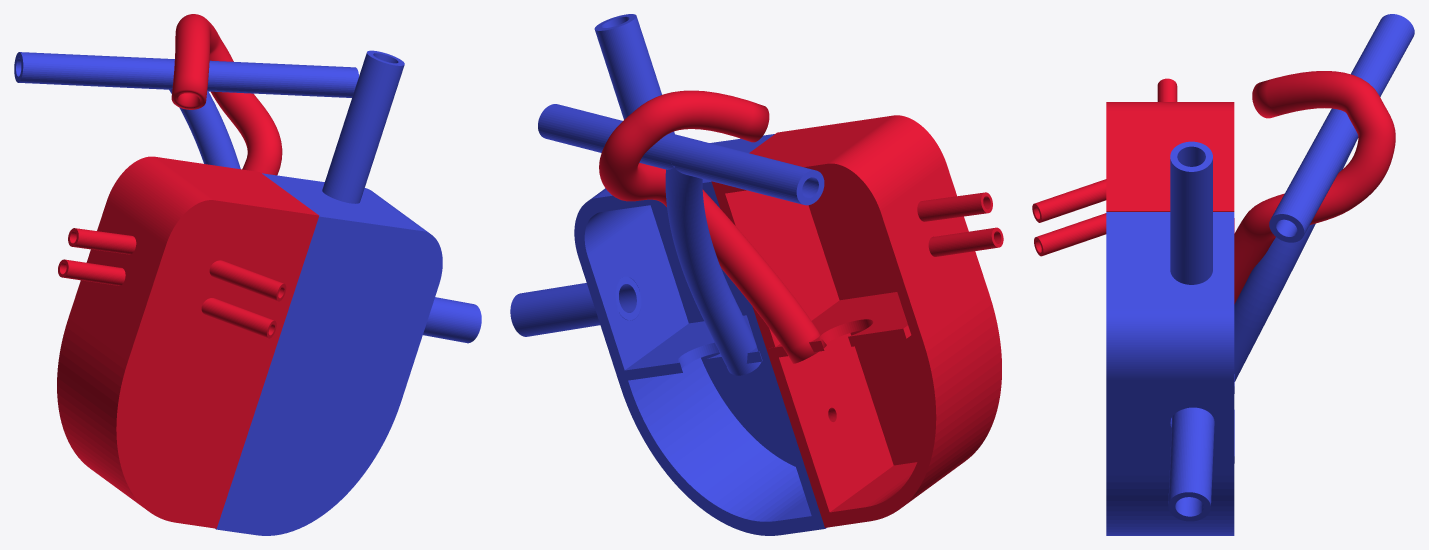
The model's file is heartmodelV4VSD.glb.
3 renders of one model, left to right at view 1: azimuth 30°, elevation 25°; view 2: azimuth 150°, elevation 25°; view 3: azimuth 270°, elevation 25°, orthographic. The views are drawn at different scales.
Visible parts, largest first — view 1: Left Atria and Ventricle, Right Atria and Ventricle, Pulmonary sides hollow, BezierCurve.001, Superior hollow, Pulmonary Trunk hollow, Inferior vena cava hollow, Upper right pul hollow, lower right pul hollow, Upper left pul hollow, lower left pul. hollow; view 2: Left Atria and Ventricle, Right Atria and Ventricle, BezierCurve.001, Pulmonary sides hollow, Pulmonary Trunk hollow, Inferior vena cava hollow, Superior hollow, Mitral Valve, Tricuspid valve, Upper left pul hollow, lower left pul. hollow; view 3: Right Atria and Ventricle, BezierCurve.001, Left Atria and Ventricle, Pulmonary sides hollow, Superior hollow, Inferior vena cava hollow, Pulmonary Trunk hollow, Upper right pul hollow, lower right pul hollow, Upper left pul hollow.
Part boxes in pixels (left/top/right/bottom): Left Atria and Ventricle: left=57, top=156, right=319, bottom=528; Right Atria and Ventricle: left=215, top=173, right=442, bottom=535; Pulmonary sides hollow: left=14, top=52, right=358, bottom=97; BezierCurve.001: left=171, top=14, right=282, bottom=175; Superior hollow: left=322, top=50, right=404, bottom=203; Pulmonary Trunk hollow: left=169, top=89, right=240, bottom=169; Inferior vena cava hollow: left=423, top=297, right=481, bottom=343; Upper right pul hollow: left=209, top=260, right=286, bottom=301; lower right pul hollow: left=201, top=298, right=276, bottom=338; Upper left pul hollow: left=68, top=228, right=136, bottom=254; lower left pul. hollow: left=58, top=259, right=125, bottom=285; Left Atria and Ventricle: left=711, top=115, right=1001, bottom=527; Right Atria and Ventricle: left=574, top=134, right=826, bottom=535; BezierCurve.001: left=599, top=90, right=826, bottom=363; Pulmonary sides hollow: left=538, top=104, right=824, bottom=205; Pulmonary Trunk hollow: left=665, top=165, right=761, bottom=375; Inferior vena cava hollow: left=510, top=276, right=641, bottom=336; Superior hollow: left=594, top=14, right=674, bottom=133; Mitral Valve: left=768, top=292, right=911, bottom=358; Tricuspid valve: left=624, top=315, right=762, bottom=380; Upper left pul hollow: left=917, top=192, right=992, bottom=221; lower left pul. hollow: left=928, top=227, right=1003, bottom=256; Right Atria and Ventricle: left=1106, top=212, right=1234, bottom=535; BezierCurve.001: left=1234, top=71, right=1395, bottom=304; Left Atria and Ventricle: left=1106, top=102, right=1234, bottom=211; Pulmonary sides hollow: left=1269, top=14, right=1414, bottom=242; Superior hollow: left=1170, top=141, right=1212, bottom=284; Inferior vena cava hollow: left=1168, top=407, right=1214, bottom=521; Pulmonary Trunk hollow: left=1234, top=137, right=1358, bottom=381; Upper right pul hollow: left=1032, top=179, right=1106, bottom=222; lower right pul hollow: left=1034, top=213, right=1106, bottom=256; Upper left pul hollow: left=1157, top=78, right=1177, bottom=101.
Bounding box in the file's own units: 5.94 × 5.71 × 4.3.
